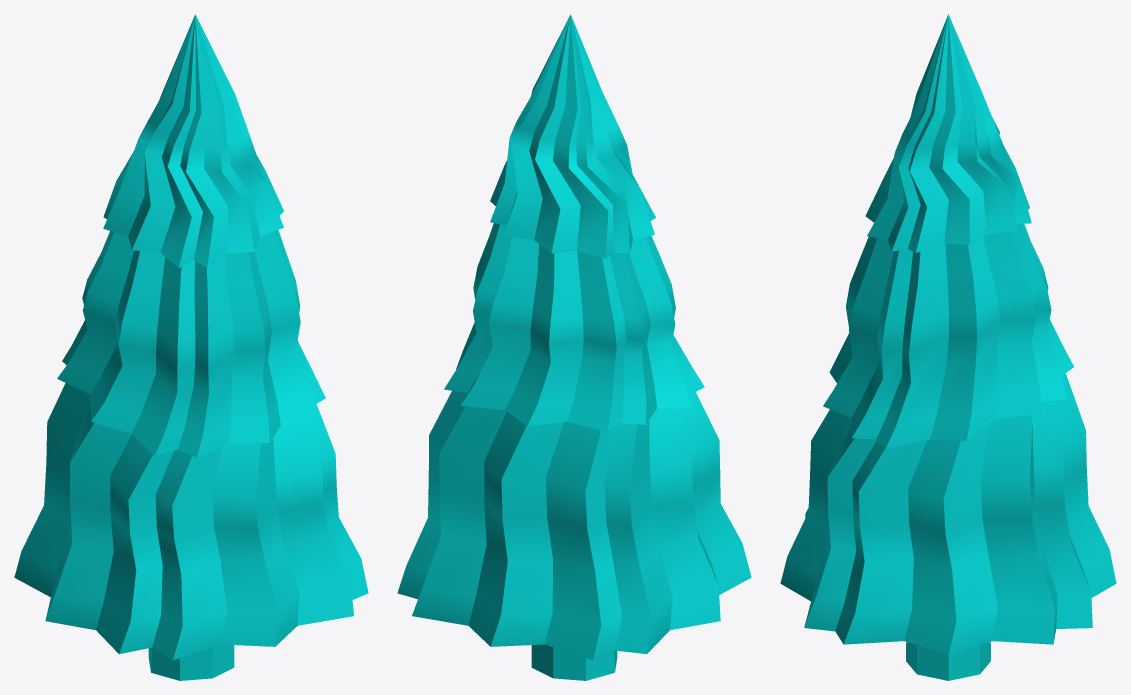
File: Tree_Conifer_01.fbx
The picture shows the model from 3 angles, left to right: view 1: azimuth 30°, elevation 25°; view 2: azimuth 150°, elevation 25°; view 3: azimuth 270°, elevation 25°; orthographic projection.
Visible parts, largest first — view 1: ConiferTree_01; view 2: ConiferTree_01; view 3: ConiferTree_01.
Part boxes in pixels (x1,y1,x2,y2): ConiferTree_01: [14, 14, 368, 680]; ConiferTree_01: [397, 14, 751, 680]; ConiferTree_01: [780, 14, 1116, 680].
Bounding box in the file's own units: 416 × 880 × 413.
